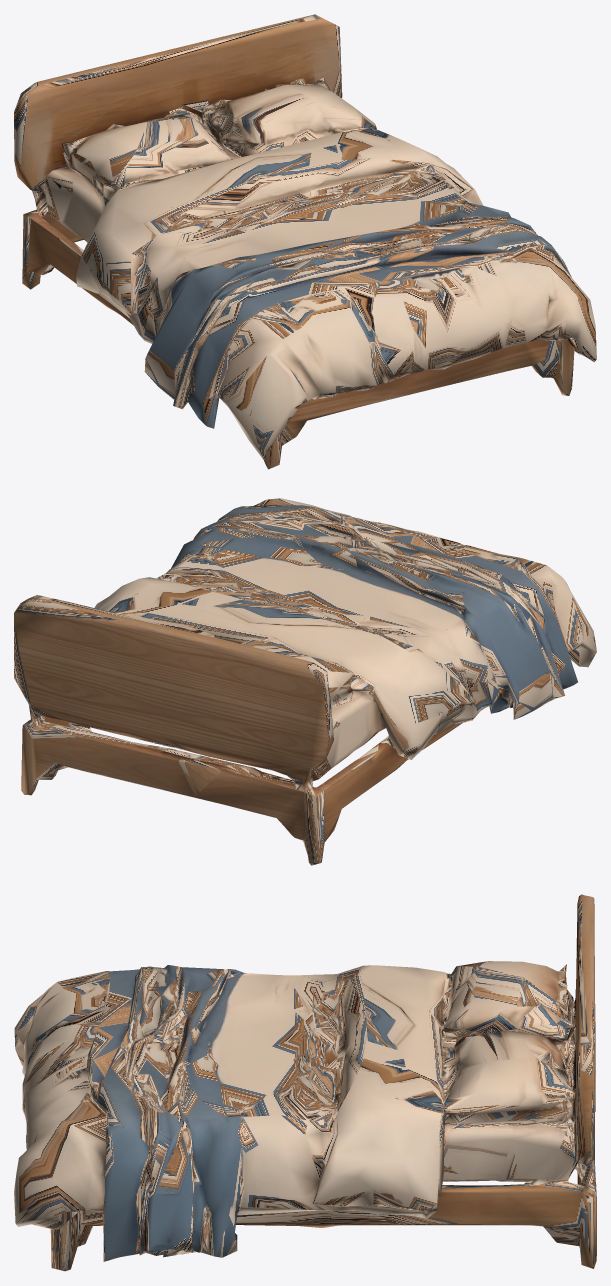
Rendered from bed.glb.
The picture shows the model from 3 angles, top to bottom: view 1: azimuth 30°, elevation 25°; view 2: azimuth 150°, elevation 25°; view 3: azimuth 270°, elevation 25°; orthographic projection. The views are drawn at different scales.
Bounding box in the file's own units: 1.74 × 0.8488 × 1.99.
1 material, 1 textured.
